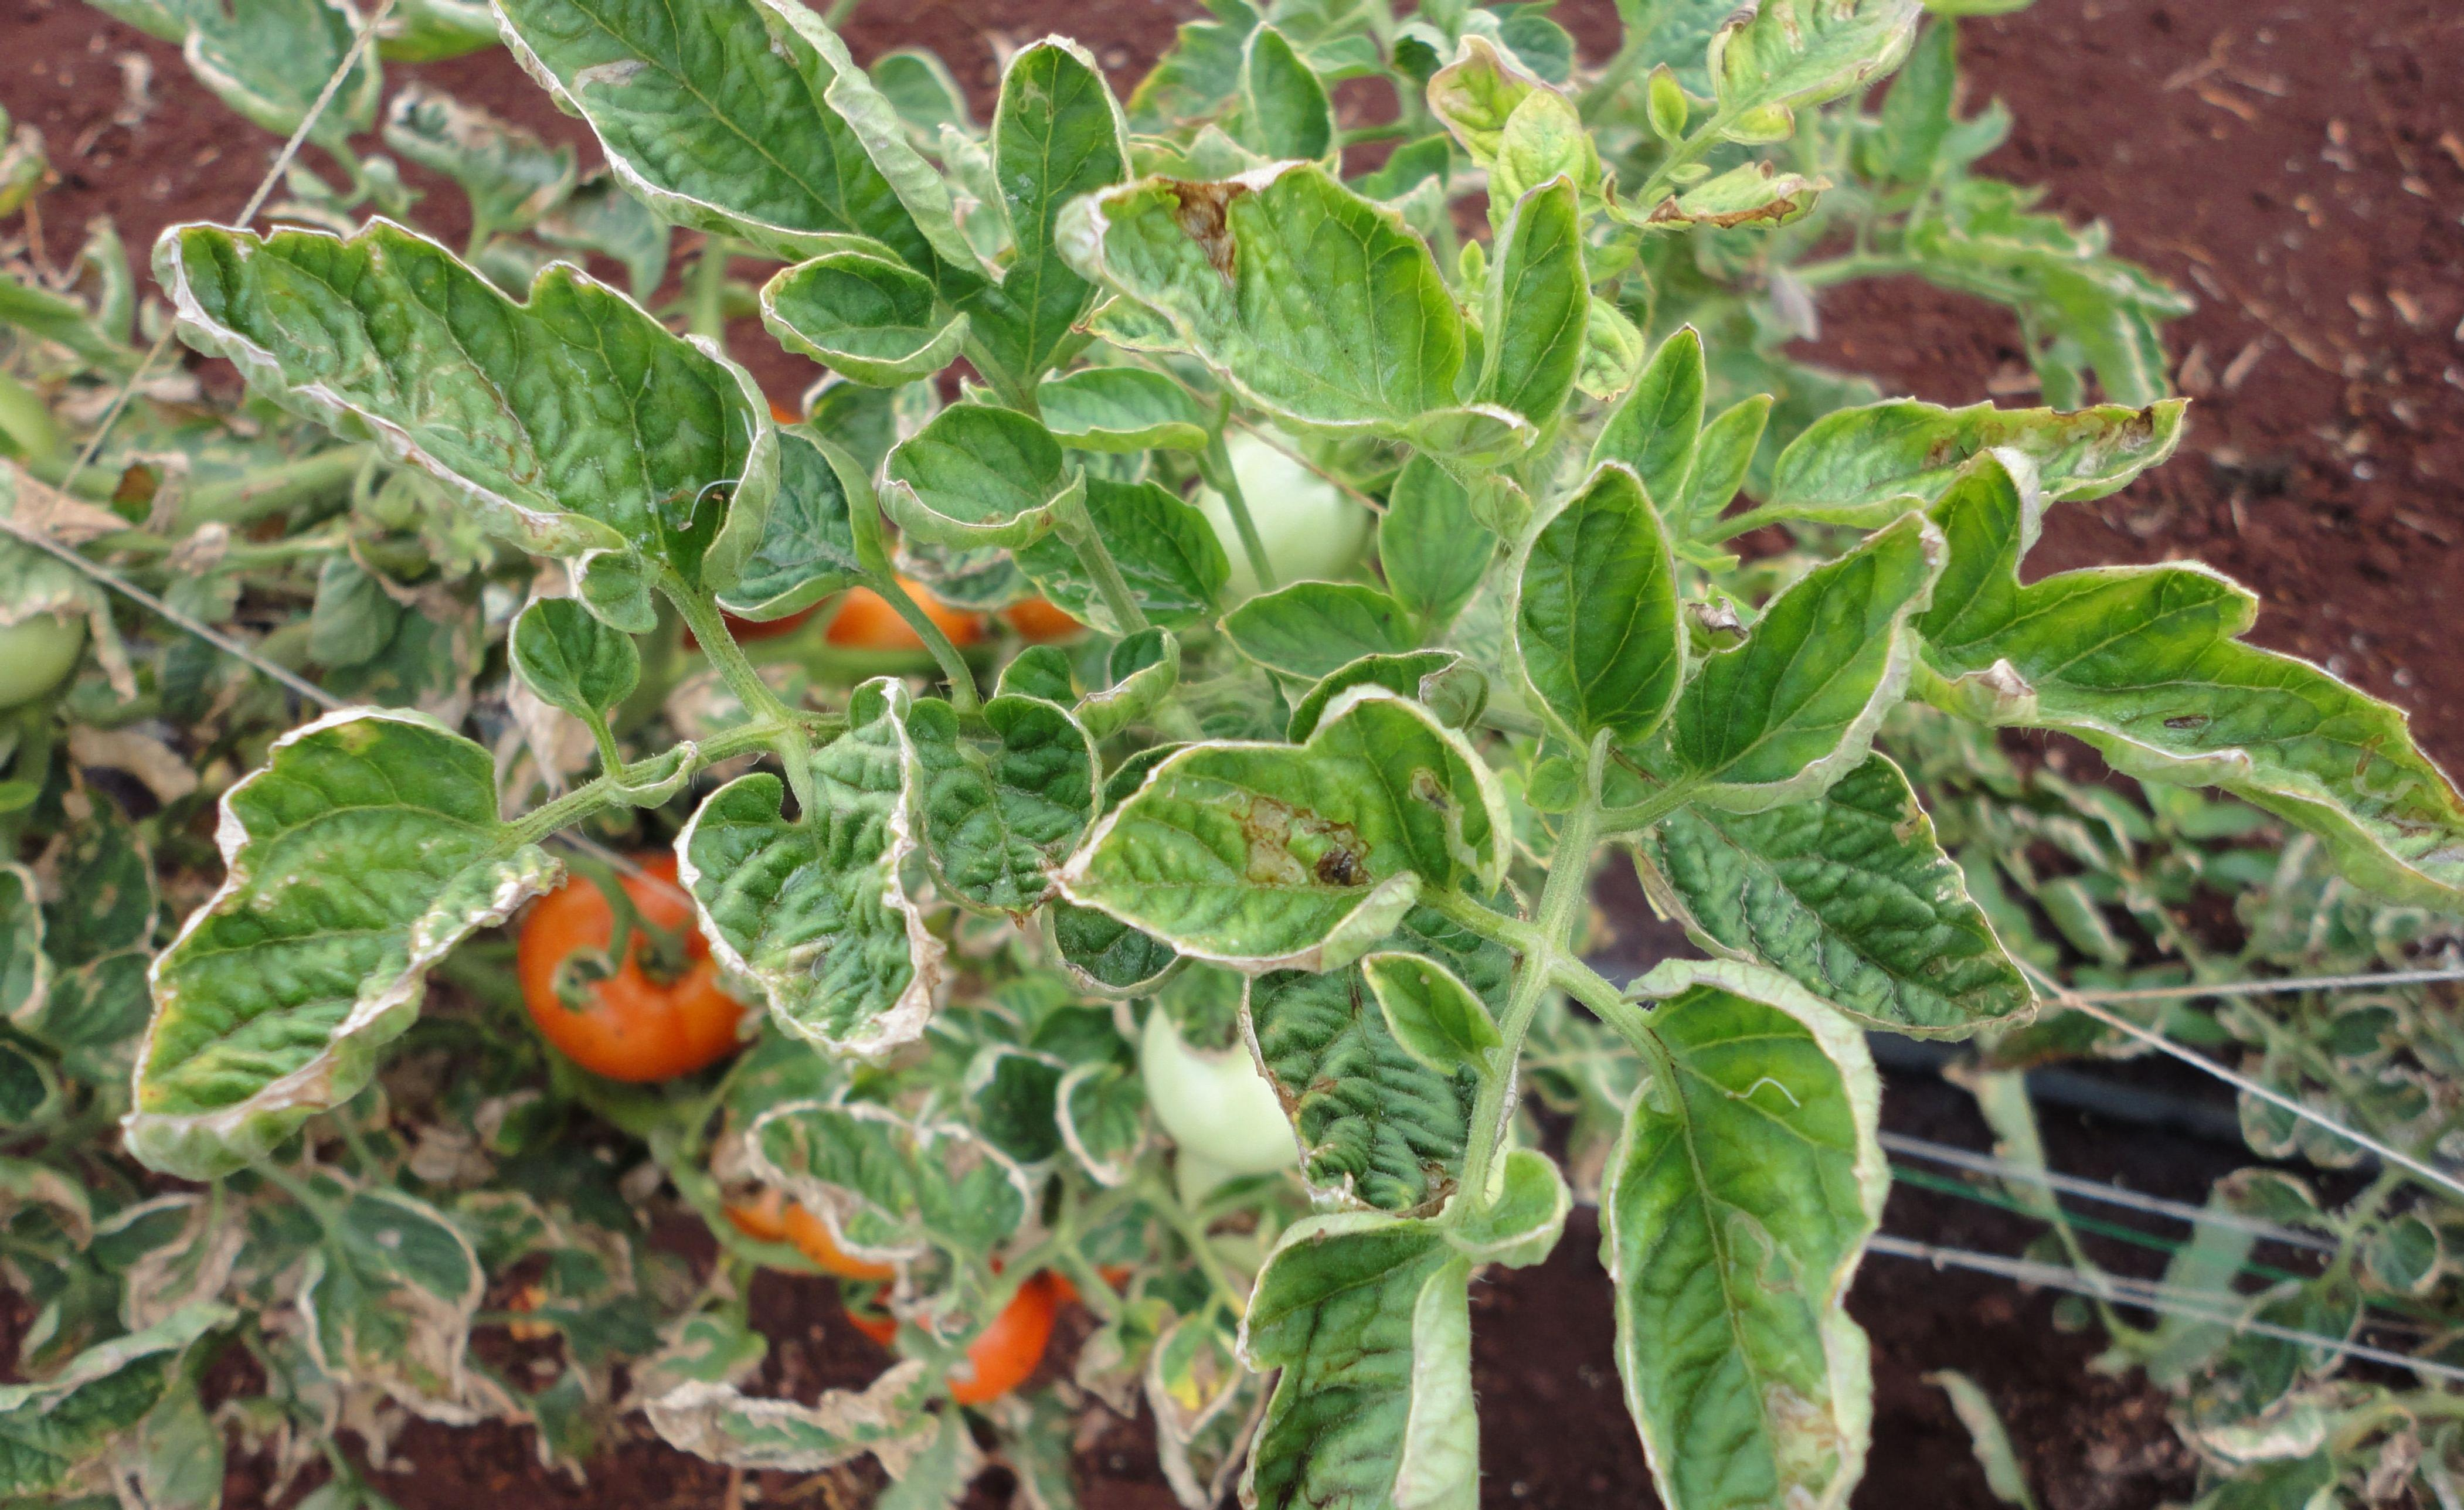Tomato leaf yellow virus: (429, 0, 1140, 436), (1899, 407, 2464, 952), (92, 204, 817, 553), (90, 690, 547, 1221), (1037, 121, 1633, 519), (1591, 940, 1918, 1510), (1037, 609, 1517, 966), (646, 671, 956, 1195), (1132, 1163, 1596, 1510), (1677, 493, 2029, 795), (1492, 442, 1767, 751)
